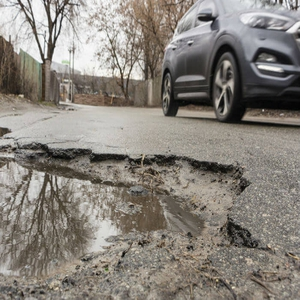pothole: (1, 141, 253, 300)
